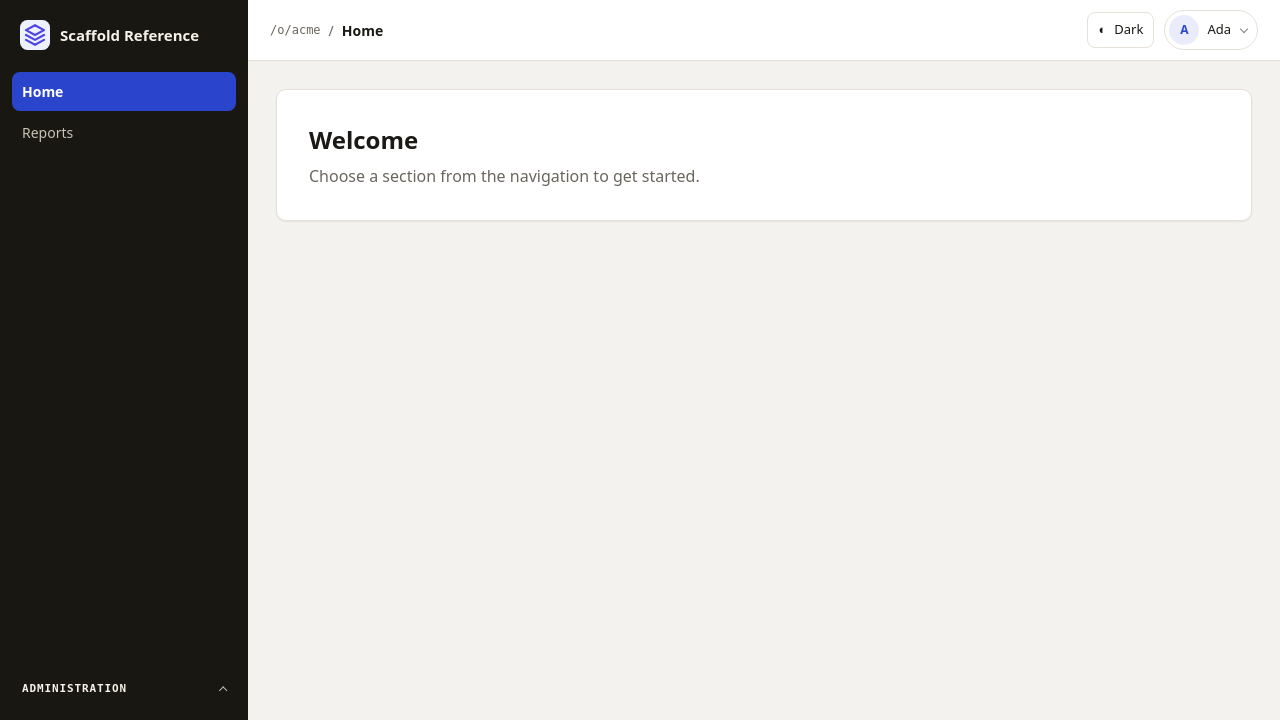
Scenario: org shell navigation › groups admin screens under an Administration menu, keeping Home and module links top-level
Expected: the link "Home" is shown, [12, 72, 236, 111]
Expected: the link "Members" is not shown
Step 1. Click the button "Administration" → (124, 689), box [12, 672, 236, 706]
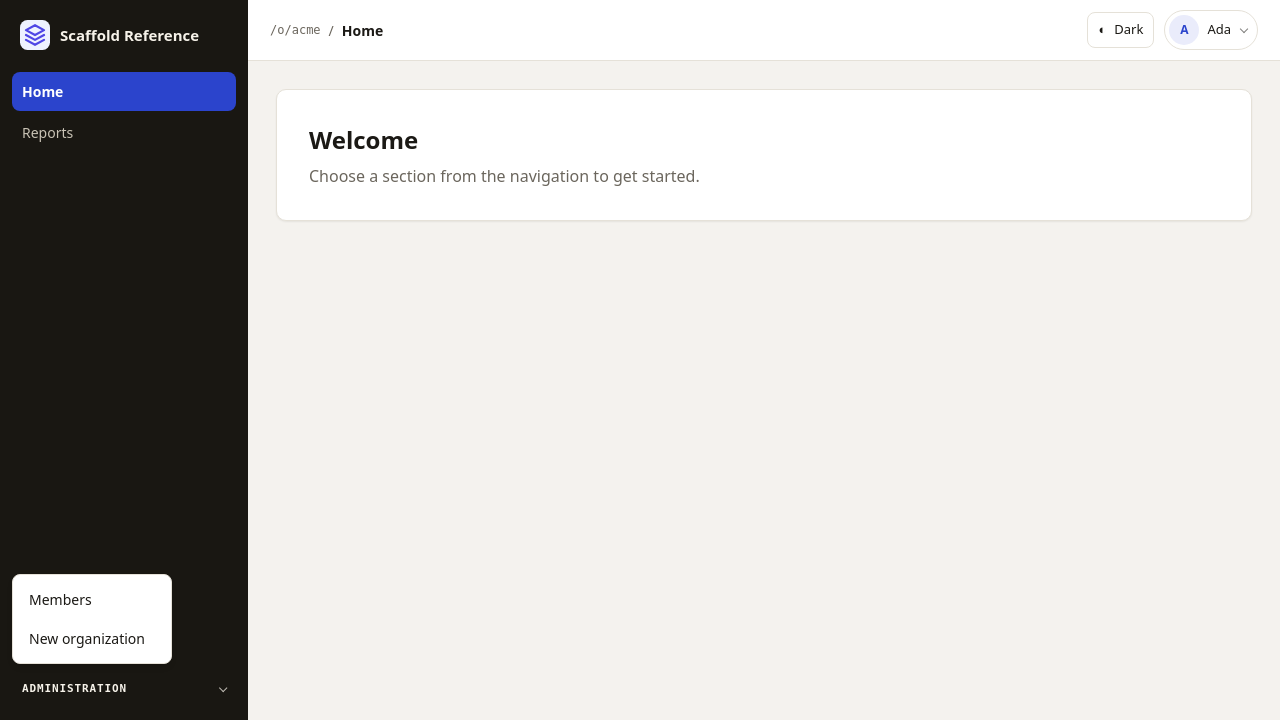
Now the menu with id "nav-group-administration" is shown, box [12, 574, 172, 664]
Now the link "Members" is shown, box [29, 590, 92, 609]
